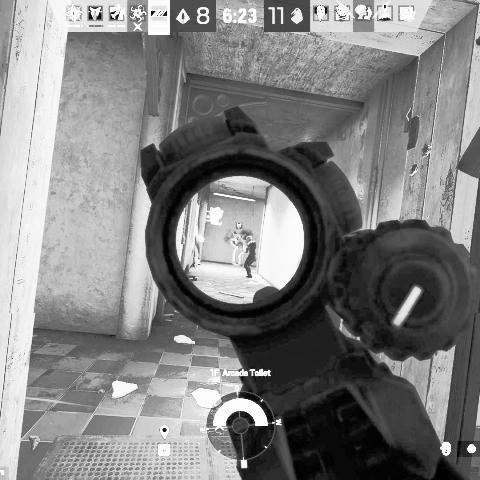Character: (241, 235, 258, 278)
Friend_label: (232, 222, 247, 238)
Head: (246, 236, 252, 242)
